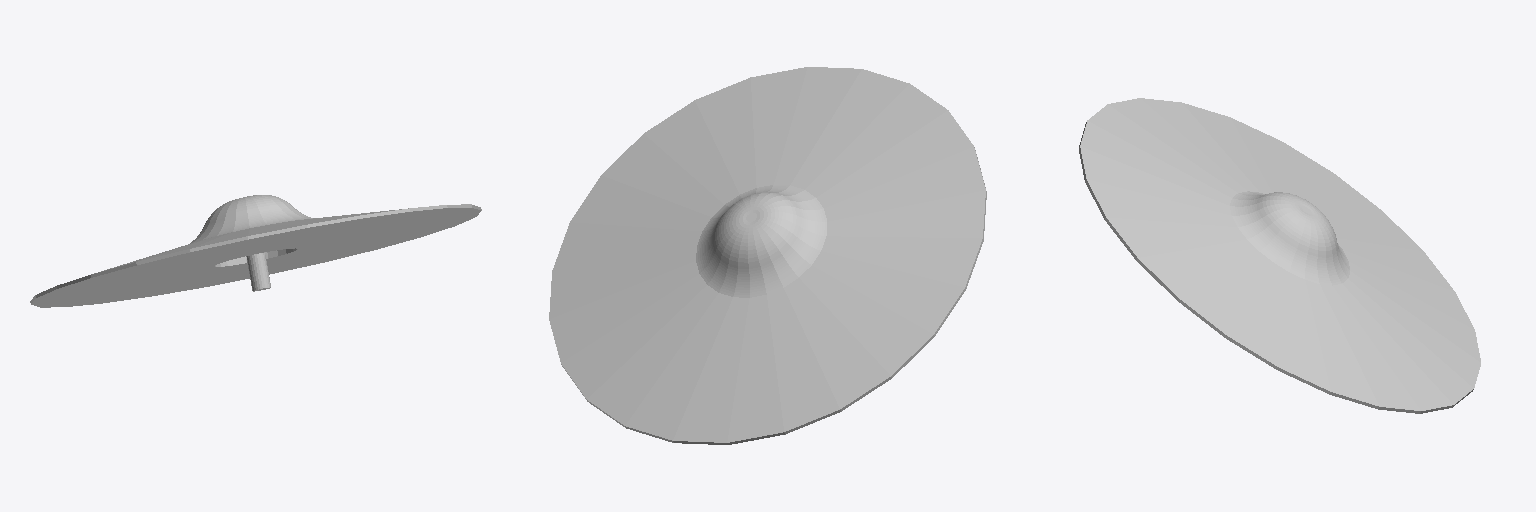
The model's file is Crash1.obj.
The picture shows the model from 3 angles: view 1: azimuth 30°, elevation 25°; view 2: azimuth 150°, elevation 25°; view 3: azimuth 270°, elevation 25°; orthographic projection.
Visible parts, largest first — view 1: ComponentFBXASC03514_001; view 2: ComponentFBXASC03514_001; view 3: ComponentFBXASC03514_001.
Part boxes in pixels (x1,y1,x2,y2): ComponentFBXASC03514_001: (30,195,481,307); ComponentFBXASC03514_001: (549,67,986,444); ComponentFBXASC03514_001: (1079,98,1480,413).
Bounding box in the file's own units: 272 × 148 × 239.